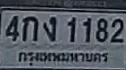1: (67, 17, 75, 42), (83, 18, 91, 42)
2: (111, 19, 124, 43)
4: (6, 15, 19, 40)
8: (96, 18, 108, 42)
A01: (22, 16, 38, 42)
A07: (43, 17, 56, 41)
BKK: (17, 48, 109, 68)
